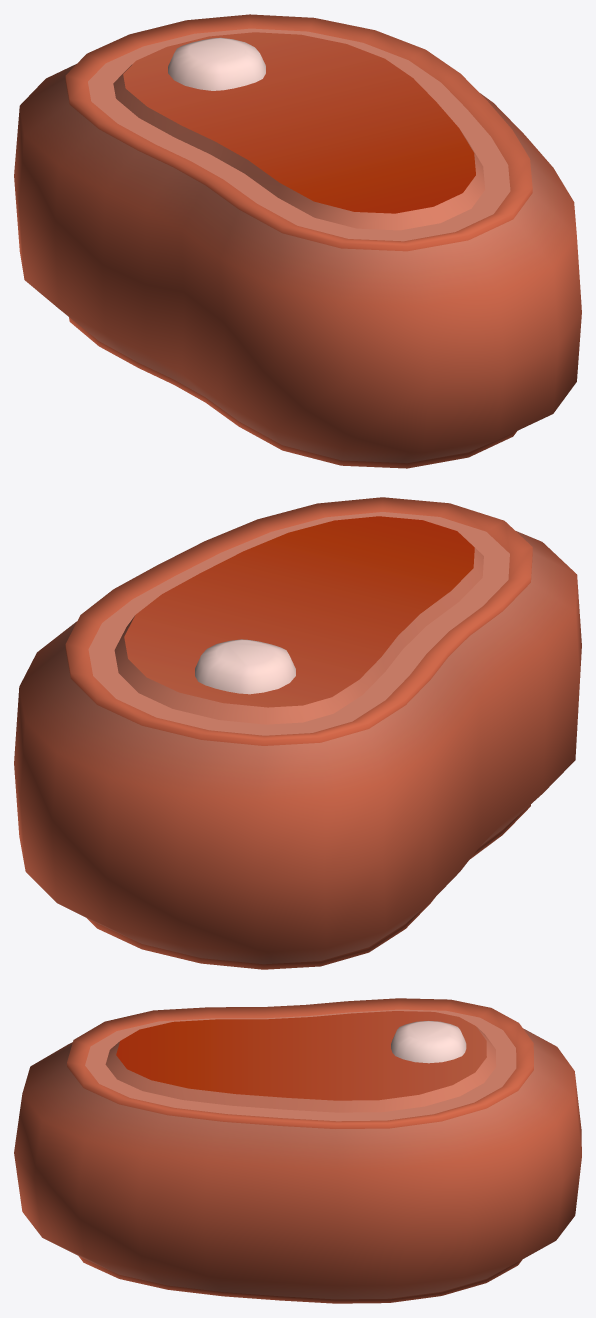
Rendered from Steak_V1_01.fbx.
3 views of the same model, one above another, from view 1: azimuth 30°, elevation 25°; view 2: azimuth 150°, elevation 25°; view 3: azimuth 270°, elevation 25° (orthographic). The views are drawn at different scales.
Parts seen in each view (by area): view 1: Steak_V1_01; view 2: Steak_V1_01; view 3: Steak_V1_01.
Boxes of the visible parts, <box> form: Steak_V1_01: <box>14,14,581,468</box>; Steak_V1_01: <box>14,497,581,969</box>; Steak_V1_01: <box>14,998,581,1303</box>.
Bounding box in the file's own units: 39.32 × 26.27 × 61.31.
